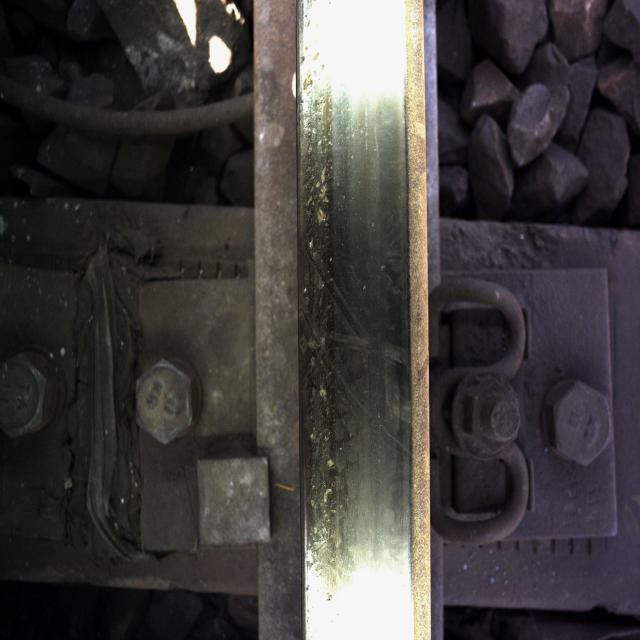crack: (295, 8, 353, 602)
